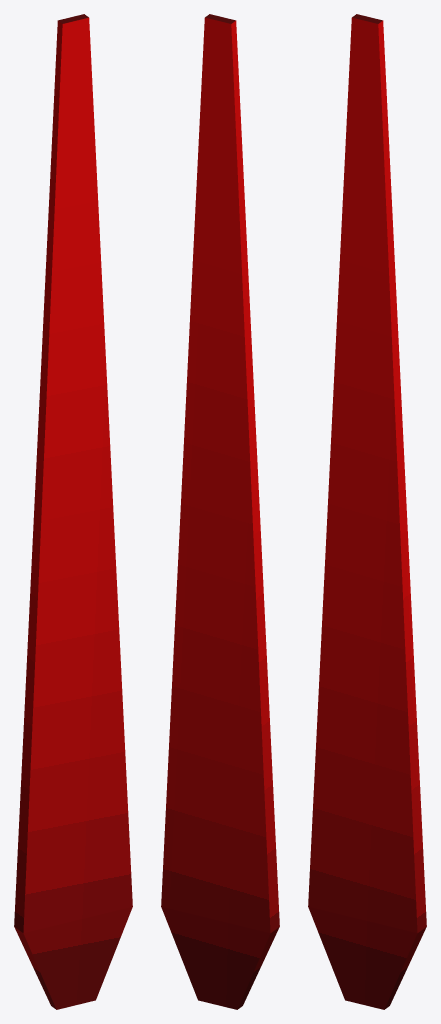
Rendered from SpeedMeterNeedle.gltf.
3 renders of one model, left to right at view 1: azimuth 30°, elevation 25°; view 2: azimuth 150°, elevation 25°; view 3: azimuth 330°, elevation 25°, orthographic.
Parts seen in each view (by area): view 1: Needle; view 2: Needle; view 3: Needle.
Part boxes in pixels (box(x1,y1,x2,y2)): Needle: box(14, 14, 132, 1009); Needle: box(161, 14, 279, 1009); Needle: box(308, 14, 426, 1009).
Size of the model in its own units: 0.048 by 0.4128 by 0.00712.
Materials: 1 (1 with a texture image).
